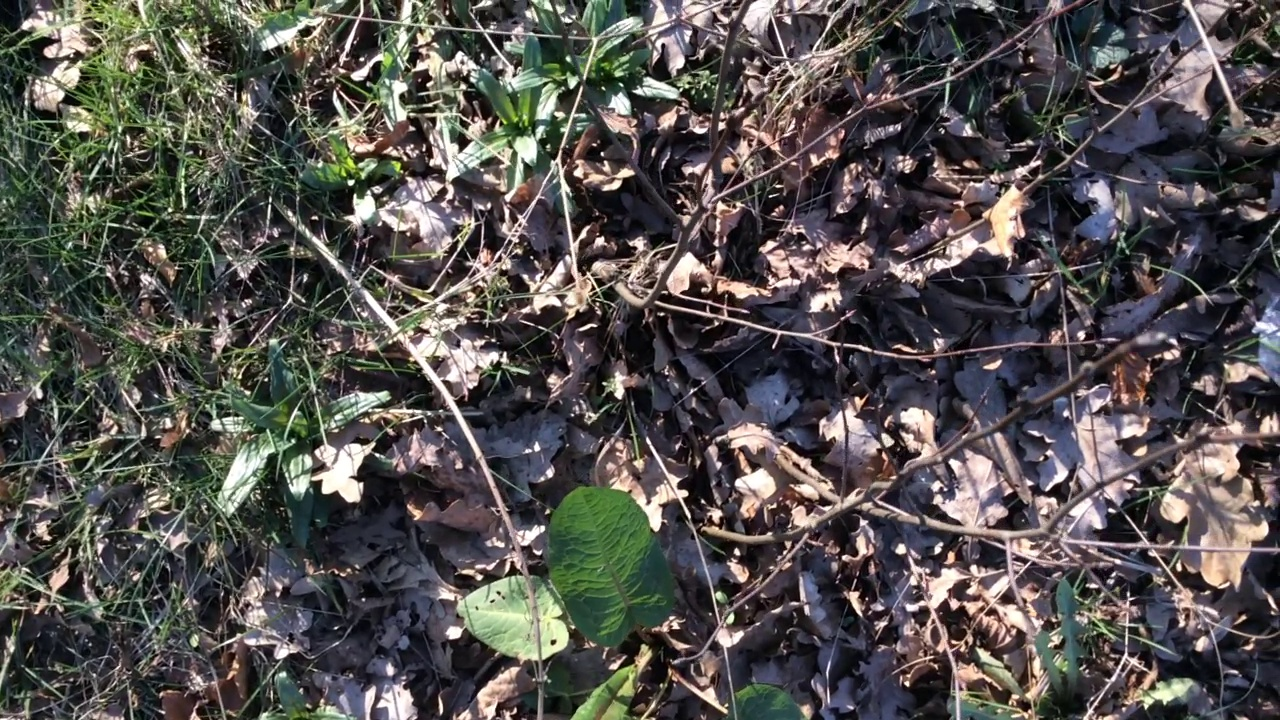rumex: (454, 486, 808, 720)
